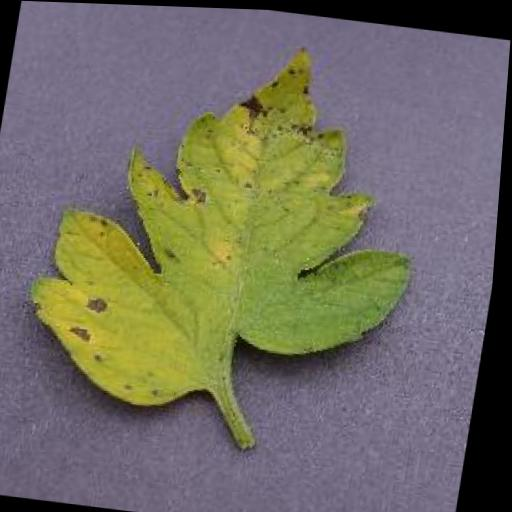Septoria: (18, 16, 453, 438)
